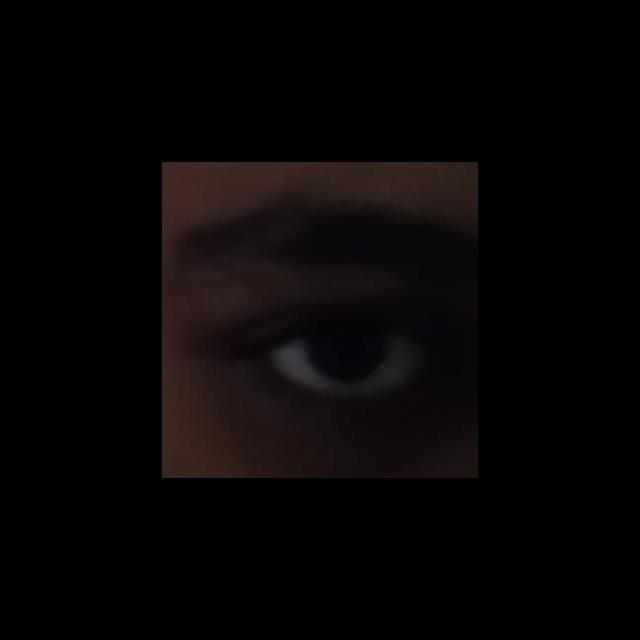eye: (268, 333, 426, 402)
iris: (306, 336, 396, 383)
